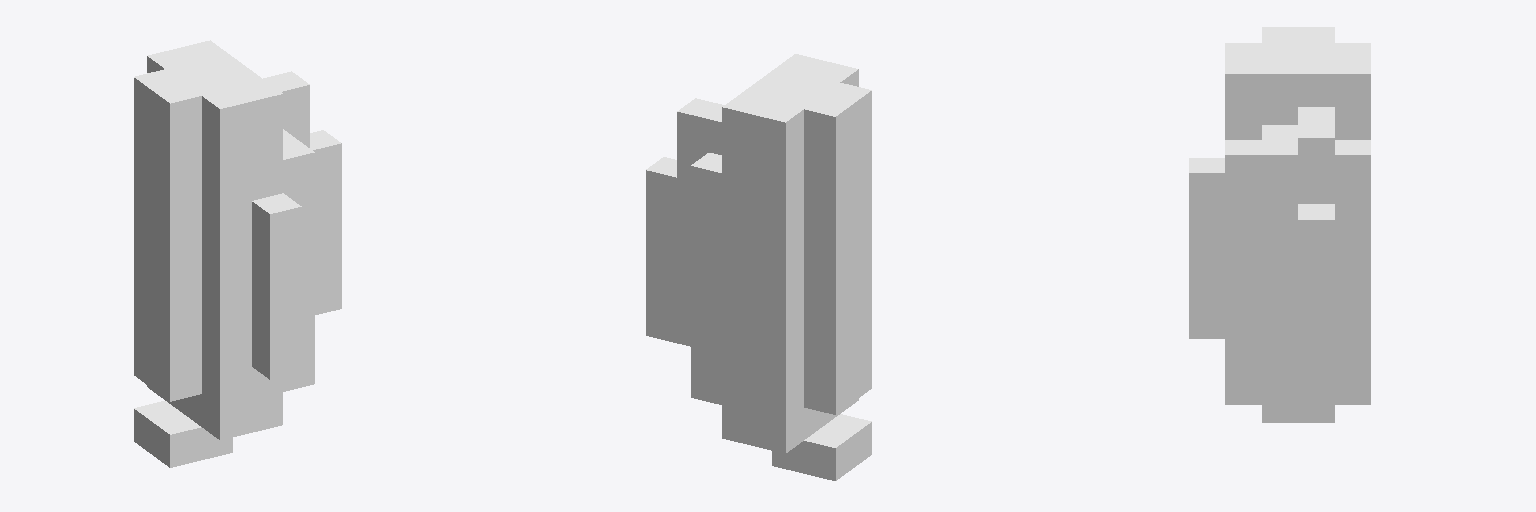
Rendered from Arm-30.obj.
The picture shows the model from 3 angles: view 1: azimuth 30°, elevation 25°; view 2: azimuth 150°, elevation 25°; view 3: azimuth 270°, elevation 25°; orthographic projection.
Visible parts, largest first — view 1: object 1; view 2: object 1; view 3: object 1.
Boxes of the visible parts, box(x1,y1,x2,y2) form: object 1: box(134, 40, 341, 467); object 1: box(646, 54, 871, 480); object 1: box(1189, 27, 1370, 422).
Bounding box in the file's own units: 0.6 × 1.1 × 0.5.